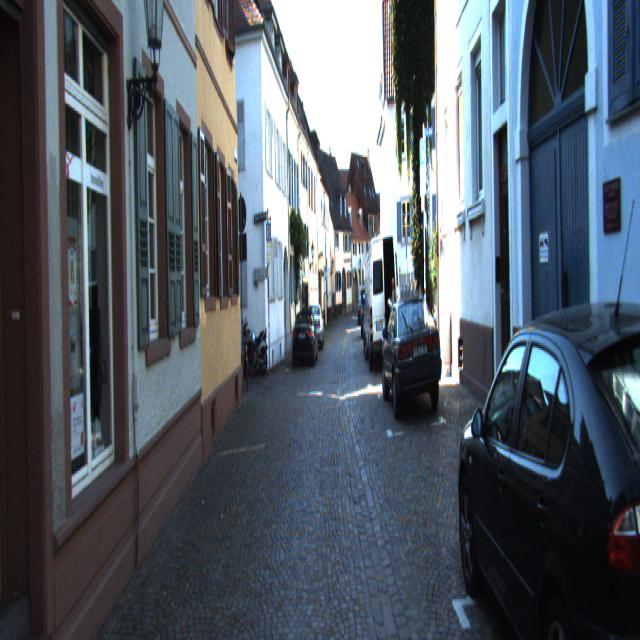Car: (452, 299, 640, 638), (379, 294, 442, 425), (363, 228, 400, 369), (238, 314, 269, 377), (292, 310, 318, 369), (306, 304, 324, 352)
